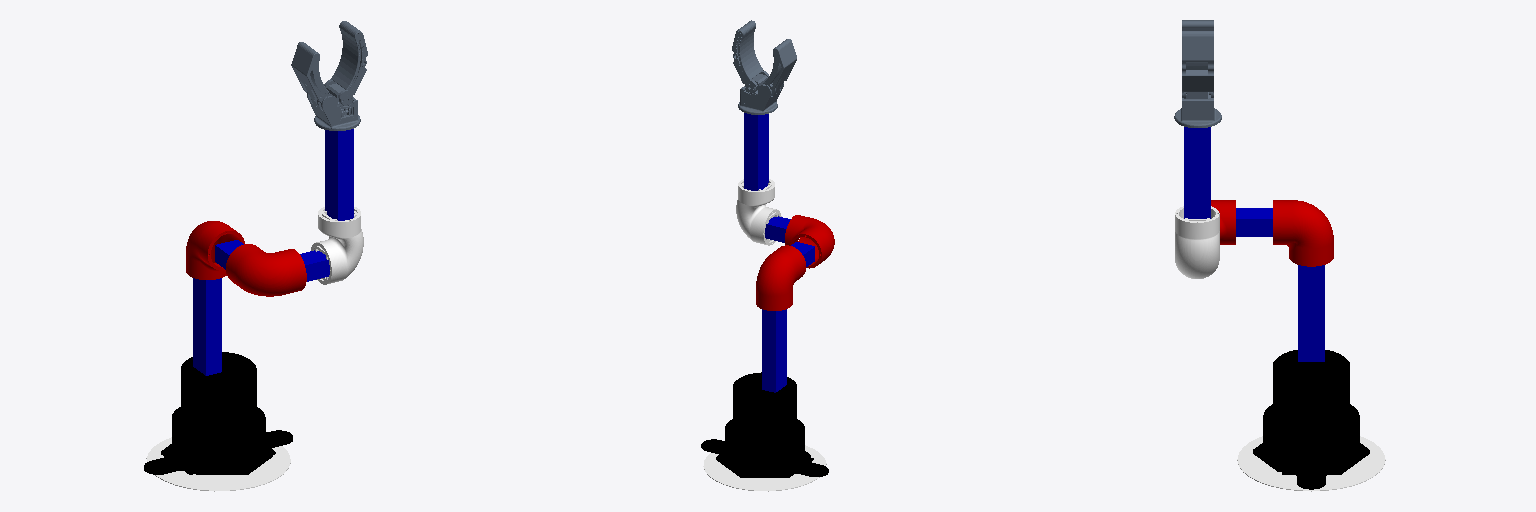
robot.urdf — collision_course:
<?xml version="1.0"?>
<robot  name="collision_course" >
 <material  name="blue" >
  <color  rgba="0 0 0.8 1.0" />
 </material>
 <material  name="red" >
  <color  rgba="0.8 0 0 1.0" />
 </material>
 <material  name="white" >
  <color  rgba="1.0 1.0 1.0 0.4" />
 </material>
 <material  name="black" >
  <color  rgba="0.0 0.0 0.0 1.0" />
 </material>
 <material  name="gray" >
  <color  rgba="0.42 0.47 0.53 1.0" />
 </material>
 <link  name="root_mod" >
  <visual >
   <origin  rpy="0 0 0"  xyz="0 0 0" />
   <material  name="white" />
   <geometry >
    <cylinder  length="0.001"  radius="0.1" />
   </geometry>
  </visual>
 </link>
 <link  name="baseMod_1" >
  <inertial >
   <origin  rpy="1.5707963267948963 0.0 0.0"  xyz="0.0 1.2212453270876722e-17 0.055" />
   <mass  value="1.245" />
   <inertia  iyy="0.002417"  ixy="-0.0"  izz="0.003107"  ixz="-0.0"  iyz="1.5e-05"  ixx="0.002797" />
  </inertial>
  <visual >
   <origin  rpy="1.5707963267948963 0.0 0.0"  xyz="0.0 1.2212453270876722e-17 0.055" />
   <material  name="black" />
   <geometry >
    <mesh  filename="./meshes/base-big-360.obj"  scale="0.001 0.001 0.001" />
   </geometry>
  </visual>
  <collision >
   <origin  rpy="1.5707963267948963 0.0 0.0"  xyz="0.0 1.2212453270876722e-17 0.055" />
   <material  name="black" />
   <geometry >
    <mesh  filename="./meshes/base-big-360.obj"  scale="0.001 0.001 0.001" />
   </geometry>
  </collision>
 </link>
 <joint  type="fixed"  name="joint_1_fixed" >
  <parent  link="root_mod" />
  <child  link="baseMod_1" />
  <origin  rpy="0 0 0"  xyz="0.0 0.0 0.01" />
  <limit  upper="3.14"  velocity="10"  effort="50"  lower="-3.14" />
 </joint>
 <link  name="linkMod_2" >
  <inertial >
   <origin  rpy="0.0 -1.5707963267948966 0.0"  xyz="-1.3766765505351941e-17 0.0 -0.062" />
   <mass  value="0.167" />
   <inertia  iyy="0.000322"  ixy="0.0"  izz="0.000331"  ixz="0.0"  iyz="0.0"  ixx="2.7e-05" />
  </inertial>
  <visual >
   <origin  rpy="0.0 -1.5707963267948966 0.0"  xyz="-1.3766765505351941e-17 0.0 -0.062" />
   <material  name="blue" />
   <geometry >
    <mesh  filename="./meshes/link-150.obj"  scale="0.001 0.001 0.001" />
   </geometry>
  </visual>
  <collision >
   <origin  rpy="0.0 -1.5707963267948966 0.0"  xyz="-1.3766765505351941e-17 0.0 -0.062" />
   <material  name="blue" />
   <geometry >
    <mesh  filename="./meshes/link-150.obj"  scale="0.001 0.001 0.001" />
   </geometry>
  </collision>
 </link>
 <joint  type="revolute"  name="joint_2_revolute" >
  <parent  link="baseMod_1" />
  <child  link="linkMod_2" />
  <origin  rpy="0 0 0"  xyz="-0.0175 2.964295475749168e-17 0.1335" />
  <axis  xyz="0.0 0.0 1.0" />
  <limit  upper="3.14"  velocity="10"  effort="50"  lower="-3.14" />
 </joint>
 <transmission  name="act_joint_2_revolute" >
  <type  xmltext="SimpleTransmission" >
   SimpleTransmission
  </type>
  <actuator  name="trans_joint_2_revolute" >
   <mechanicalreduction  xmltext="1" >
    1
   </mechanicalreduction>
  </actuator>
  <joint  name="joint_2_revolute" />
 </transmission>
 <link  name="jointMod_3" >
  <inertial >
   <origin  rpy="-0.0 1.5707963267948966 0.0"  xyz="-1.1546319456101627e-17 0.0 0.052" />
   <mass  value="0.184" />
   <inertia  iyy="7.8e-05"  ixy="-1.3e-05"  izz="9e-05"  ixz="-0.0"  iyz="0.0"  ixx="7.8e-05" />
  </inertial>
  <visual >
   <origin  rpy="-0.0 1.5707963267948966 0.0"  xyz="-1.1546319456101627e-17 0.0 0.052" />
   <material  name="red" />
   <geometry >
    <mesh  filename="./meshes/90-joint.obj"  scale="0.001 0.001 0.001" />
   </geometry>
  </visual>
  <collision >
   <origin  rpy="-0.0 1.5707963267948966 0.0"  xyz="-1.1546319456101627e-17 0.0 0.052" />
   <material  name="red" />
   <geometry >
    <mesh  filename="./meshes/90-joint.obj"  scale="0.001 0.001 0.001" />
   </geometry>
  </collision>
 </link>
 <joint  type="fixed"  name="joint_3_fixed" >
  <parent  link="linkMod_2" />
  <child  link="jointMod_3" />
  <origin  rpy="0 0 0"  xyz="3.3306690738754695e-17 0.0 0.15" />
  <axis  xyz="0.0 0.0 1.0" />
  <limit  upper="3.14"  velocity="10"  effort="50"  lower="-3.14" />
 </joint>
 <link  name="linkMod_4" >
  <inertial >
   <origin  rpy="0.0 0.0 -1.5707963267948963"  xyz="-1.3766765505351941e-17 0.062 0.0" />
   <mass  value="0.05" />
   <inertia  iyy="1.3e-05"  ixy="0.0"  izz="1.6e-05"  ixz="0.0"  iyz="0.0"  ixx="8e-06" />
  </inertial>
  <visual >
   <origin  rpy="0.0 0.0 -1.5707963267948963"  xyz="-1.3766765505351941e-17 0.062 0.0" />
   <material  name="blue" />
   <geometry >
    <mesh  filename="./meshes/link-50.obj"  scale="0.001 0.001 0.001" />
   </geometry>
  </visual>
  <collision >
   <origin  rpy="0.0 0.0 -1.5707963267948963"  xyz="-1.3766765505351941e-17 0.062 0.0" />
   <material  name="blue" />
   <geometry >
    <mesh  filename="./meshes/link-50.obj"  scale="0.001 0.001 0.001" />
   </geometry>
  </collision>
 </link>
 <joint  type="revolute"  name="joint_4_revolute" >
  <parent  link="jointMod_3" />
  <child  link="linkMod_4" />
  <origin  rpy="0 0 0"  xyz="-1.1546319456101627e-17 -0.052 0.052" />
  <axis  xyz="0.0 -1.0 0.0" />
  <limit  upper="3.14"  velocity="10"  effort="50"  lower="-3.14" />
 </joint>
 <transmission  name="act_joint_4_revolute" >
  <type  xmltext="SimpleTransmission" >
   SimpleTransmission
  </type>
  <actuator  name="trans_joint_4_revolute" >
   <mechanicalreduction  xmltext="1" >
    1
   </mechanicalreduction>
  </actuator>
  <joint  name="joint_4_revolute" />
 </transmission>
 <link  name="jointMod_5" >
  <inertial >
   <origin  rpy="0.0 0.0 1.5707963267948963"  xyz="-1.1546319456101627e-17 -0.052 0.0" />
   <mass  value="0.184" />
   <inertia  iyy="7.8e-05"  ixy="-1.3e-05"  izz="9e-05"  ixz="-0.0"  iyz="0.0"  ixx="7.8e-05" />
  </inertial>
  <visual >
   <origin  rpy="0.0 0.0 1.5707963267948963"  xyz="-1.1546319456101627e-17 -0.052 0.0" />
   <material  name="red" />
   <geometry >
    <mesh  filename="./meshes/90-joint.obj"  scale="0.001 0.001 0.001" />
   </geometry>
  </visual>
  <collision >
   <origin  rpy="0.0 0.0 1.5707963267948963"  xyz="-1.1546319456101627e-17 -0.052 0.0" />
   <material  name="red" />
   <geometry >
    <mesh  filename="./meshes/90-joint.obj"  scale="0.001 0.001 0.001" />
   </geometry>
  </collision>
 </link>
 <joint  type="fixed"  name="joint_5_fixed" >
  <parent  link="linkMod_4" />
  <child  link="jointMod_5" />
  <origin  rpy="0 0 0"  xyz="1.1102230246251566e-17 -0.05 0.0" />
  <axis  xyz="0.0 -1.0 0.0" />
  <limit  upper="3.14"  velocity="10"  effort="50"  lower="-3.14" />
 </joint>
 <link  name="linkMod_6" >
  <inertial >
   <origin  rpy="0.0 0.0 0.0"  xyz="-0.062 0.0 0.0" />
   <mass  value="0.05" />
   <inertia  iyy="1.3e-05"  ixy="0.0"  izz="1.6e-05"  ixz="0.0"  iyz="0.0"  ixx="8e-06" />
  </inertial>
  <visual >
   <origin  rpy="0.0 0.0 0.0"  xyz="-0.062 0.0 0.0" />
   <material  name="blue" />
   <geometry >
    <mesh  filename="./meshes/link-50.obj"  scale="0.001 0.001 0.001" />
   </geometry>
  </visual>
  <collision >
   <origin  rpy="0.0 0.0 0.0"  xyz="-0.062 0.0 0.0" />
   <material  name="blue" />
   <geometry >
    <mesh  filename="./meshes/link-50.obj"  scale="0.001 0.001 0.001" />
   </geometry>
  </collision>
 </link>
 <joint  type="revolute"  name="joint_6_revolute" >
  <parent  link="jointMod_5" />
  <child  link="linkMod_6" />
  <origin  rpy="0 0 0"  xyz="0.051999999999999984 -0.05200000000000001 0.0" />
  <axis  xyz="1.0 -0.0 0.0" />
  <limit  upper="3.14"  velocity="10"  effort="50"  lower="-3.14" />
 </joint>
 <transmission  name="act_joint_6_revolute" >
  <type  xmltext="SimpleTransmission" >
   SimpleTransmission
  </type>
  <actuator  name="trans_joint_6_revolute" >
   <mechanicalreduction  xmltext="1" >
    1
   </mechanicalreduction>
  </actuator>
  <joint  name="joint_6_revolute" />
 </transmission>
 <link  name="connMod_7" >
  <inertial >
   <origin  rpy="0.0 0.0 -1.5707963267948963"  xyz="0.02 4.440892098500626e-18 0.0" />
   <mass  value="0.263" />
   <inertia  iyy="0.00023"  ixy="0.0"  izz="0.000125"  ixz="-0.0"  iyz="-1.5e-05"  ixx="0.000226" />
  </inertial>
  <visual >
   <origin  rpy="0.0 0.0 -1.5707963267948963"  xyz="0.02 4.440892098500626e-18 0.0" />
   <material  name="white" />
   <geometry >
    <mesh  filename="./meshes/90-connector.obj"  scale="0.001 0.001 0.001" />
   </geometry>
  </visual>
  <collision >
   <origin  rpy="0.0 0.0 -1.5707963267948963"  xyz="0.02 4.440892098500626e-18 0.0" />
   <material  name="white" />
   <geometry >
    <mesh  filename="./meshes/90-connector.obj"  scale="0.001 0.001 0.001" />
   </geometry>
  </collision>
 </link>
 <joint  type="fixed"  name="joint_7_fixed" >
  <parent  link="linkMod_6" />
  <child  link="connMod_7" />
  <origin  rpy="0 0 0"  xyz="0.05 0.0 0.0" />
  <axis  xyz="1.0 0.0 0.0" />
  <limit  upper="3.14"  velocity="10"  effort="50"  lower="-3.14" />
 </joint>
 <link  name="linkMod_8" >
  <inertial >
   <origin  rpy="0.0 -1.5707963267948966 0.0"  xyz="-1.3766765505351941e-17 0.0 -0.062" />
   <mass  value="0.167" />
   <inertia  iyy="0.000322"  ixy="0.0"  izz="0.000331"  ixz="0.0"  iyz="0.0"  ixx="2.7e-05" />
  </inertial>
  <visual >
   <origin  rpy="0.0 -1.5707963267948966 0.0"  xyz="-1.3766765505351941e-17 0.0 -0.062" />
   <material  name="blue" />
   <geometry >
    <mesh  filename="./meshes/link-150.obj"  scale="0.001 0.001 0.001" />
   </geometry>
  </visual>
  <collision >
   <origin  rpy="0.0 -1.5707963267948966 0.0"  xyz="-1.3766765505351941e-17 0.0 -0.062" />
   <material  name="blue" />
   <geometry >
    <mesh  filename="./meshes/link-150.obj"  scale="0.001 0.001 0.001" />
   </geometry>
  </collision>
 </link>
 <joint  type="fixed"  name="joint_8_fixed" >
  <parent  link="connMod_7" />
  <child  link="linkMod_8" />
  <origin  rpy="0 0 0"  xyz="0.02 4.440892098500626e-18 0.06" />
  <axis  xyz="0.0 0.0 1.0" />
  <limit  upper="3.14"  velocity="10"  effort="50"  lower="-3.14" />
 </joint>
 <link  name="eefMod_9" >
  <inertial >
   <origin  rpy="0.0 -1.5707963267948966 0.0"  xyz="6.439293542825908e-18 0.0 0.029" />
   <mass  value="0.5" />
   <inertia  iyy="0"  ixy="0"  izz="0"  ixz="0"  iyz="0"  ixx="0" />
  </inertial>
  <visual >
   <origin  rpy="0.0 -1.5707963267948966 0.0"  xyz="6.439293542825908e-18 0.0 0.029" />
   <material  name="gray" />
   <geometry >
    <mesh  filename="./meshes/eef1l.obj"  scale="0.001 0.001 0.001" />
   </geometry>
  </visual>
  <collision >
   <origin  rpy="0.0 -1.5707963267948966 0.0"  xyz="6.439293542825908e-18 0.0 0.029" />
   <material  name="gray" />
   <geometry >
    <mesh  filename="./meshes/eef1l.obj"  scale="0.001 0.001 0.001" />
   </geometry>
  </collision>
 </link>
 <joint  type="fixed"  name="joint_9_fixed" >
  <parent  link="linkMod_8" />
  <child  link="eefMod_9" />
  <origin  rpy="0 0 0"  xyz="3.3306690738754695e-17 0.0 0.15" />
  <axis  xyz="0.0 0.0 1.0" />
  <limit  upper="3.14"  velocity="10"  effort="50"  lower="-3.14" />
 </joint>
 <link  name="eef" >
  <inertial >
   <mass  value="0" />
  </inertial>
 </link>
 <joint  type="fixed"  name="eef_joint" >
  <parent  link="eefMod_9" />
  <child  link="eef" />
  <origin  rpy="0.0 -1.5707963267948966 0.0"  xyz="-0.009999999999999976 0.0 0.109" />
  <limit  upper="3.14"  velocity="10"  effort="50"  lower="-3.14" />
 </joint>
</robot>

--- Facts derived from the render (not from the file) ---
3 views of the same robot in one strip: view 1: azimuth 30°, elevation 25°; view 2: azimuth 150°, elevation 25°; view 3: azimuth 270°, elevation 25° (orthographic).
Robot: collision_course — 11 links, 10 joints (3 revolute, 7 fixed); root link root_mod; default pose: all joints at 0.
Visible links, largest first — view 1: baseMod_1, eefMod_9, jointMod_5, linkMod_2, linkMod_8, root_mod, connMod_7, jointMod_3, linkMod_6; view 2: baseMod_1, eefMod_9, jointMod_3, linkMod_2, linkMod_8, connMod_7, root_mod, jointMod_5; view 3: baseMod_1, eefMod_9, jointMod_3, root_mod, connMod_7, linkMod_2, linkMod_8, linkMod_4, jointMod_5.
Boxes of the visible links, x1=… form: baseMod_1: x1=144, y1=352, x2=292, y2=474; eefMod_9: x1=291, y1=21, x2=367, y2=130; jointMod_5: x1=226, y1=244, x2=306, y2=296; linkMod_2: x1=193, y1=278, x2=221, y2=375; linkMod_8: x1=325, y1=129, x2=353, y2=220; root_mod: x1=146, y1=437, x2=290, y2=491; connMod_7: x1=311, y1=207, x2=363, y2=284; jointMod_3: x1=186, y1=221, x2=244, y2=279; linkMod_6: x1=300, y1=250, x2=329, y2=281; baseMod_1: x1=701, y1=372, x2=828, y2=477; eefMod_9: x1=732, y1=20, x2=796, y2=114; jointMod_3: x1=756, y1=245, x2=805, y2=310; linkMod_2: x1=762, y1=309, x2=786, y2=392; linkMod_8: x1=744, y1=113, x2=768, y2=190; connMod_7: x1=736, y1=179, x2=781, y2=245; root_mod: x1=703, y1=445, x2=826, y2=491; jointMod_5: x1=785, y1=215, x2=834, y2=268; baseMod_1: x1=1253, y1=350, x2=1369, y2=489; eefMod_9: x1=1174, y1=20, x2=1221, y2=127; jointMod_3: x1=1273, y1=200, x2=1333, y2=266; root_mod: x1=1237, y1=436, x2=1385, y2=491; connMod_7: x1=1175, y1=206, x2=1219, y2=278; linkMod_2: x1=1298, y1=265, x2=1324, y2=361; linkMod_8: x1=1184, y1=127, x2=1210, y2=218; linkMod_4: x1=1236, y1=208, x2=1272, y2=236; jointMod_5: x1=1211, y1=200, x2=1235, y2=244.
Size in the robot's own frame: 0.2544 by 0.285 by 0.6966 metres.
Meshes: 6 distinct files referenced, 9 mesh visuals loaded (6 OBJ).